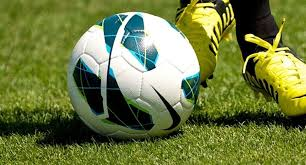soccer ball: (63, 8, 201, 144)
soccer cleats: (236, 37, 306, 121), (169, 2, 235, 91)
